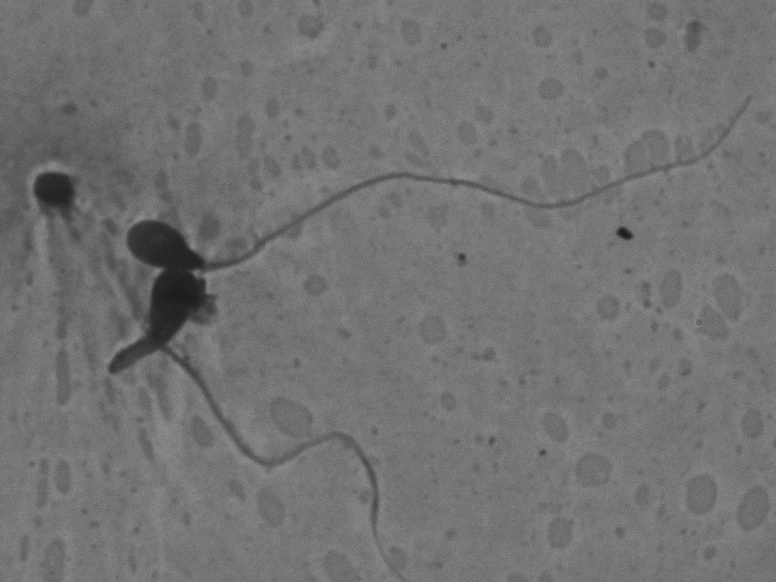Abnormal: (114, 79, 770, 283), (91, 265, 432, 561)
